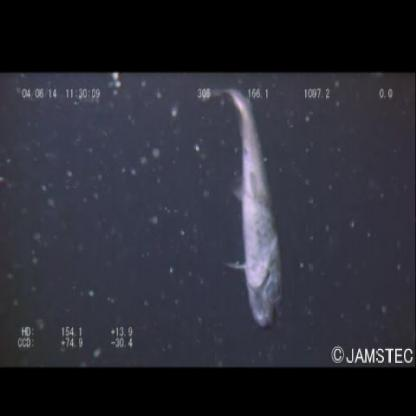Bio: (197, 85, 287, 334)
